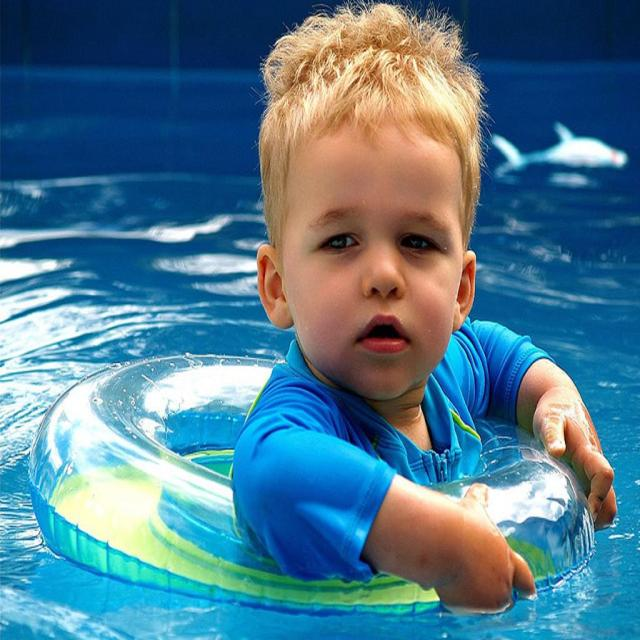Face: (281, 105, 461, 393)
